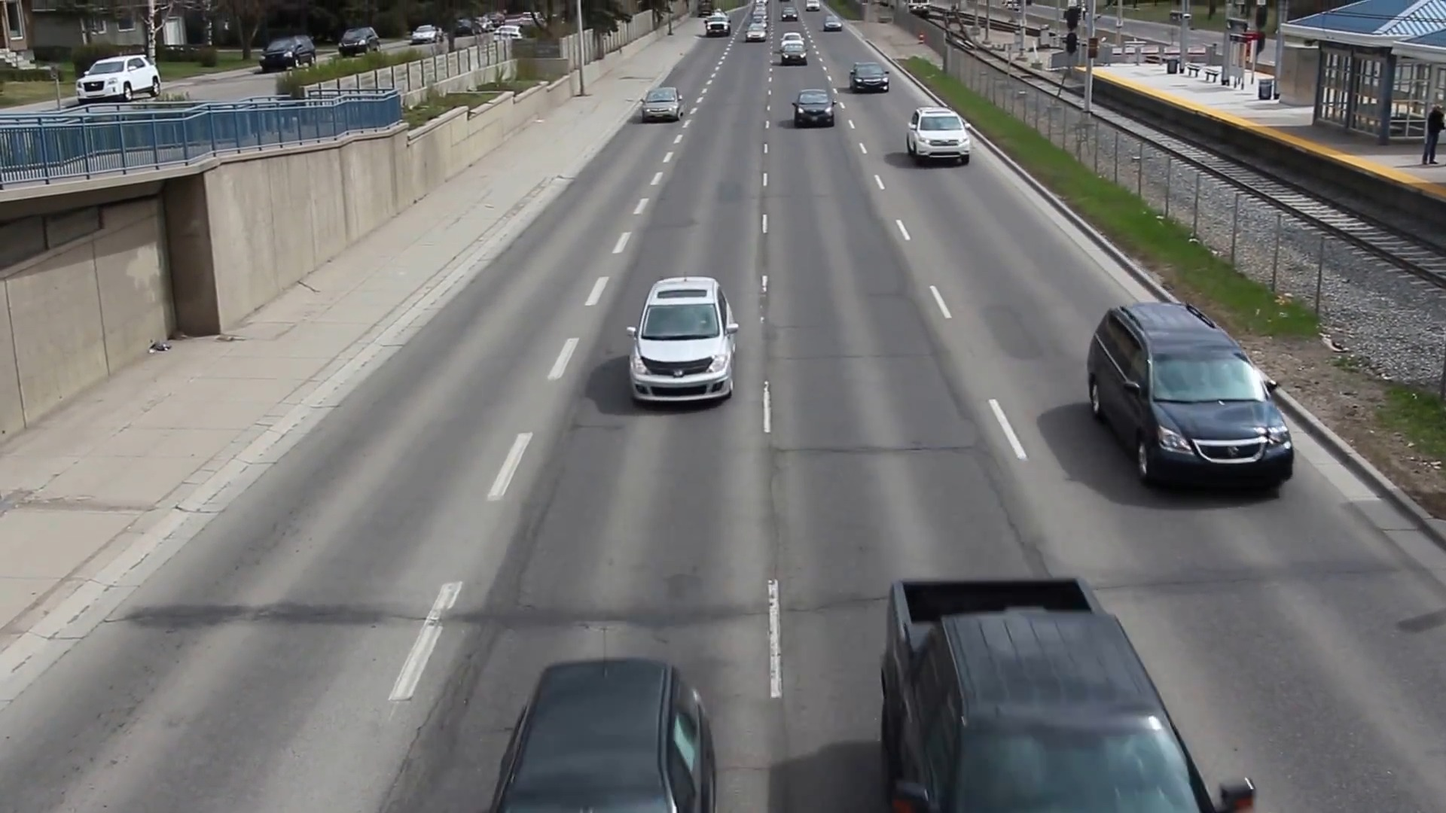car: (1079, 301, 1298, 496), (635, 275, 734, 405), (908, 104, 969, 164), (795, 89, 837, 127)
